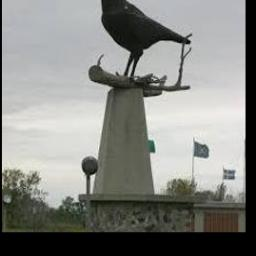Crow: (84, 0, 192, 83)
